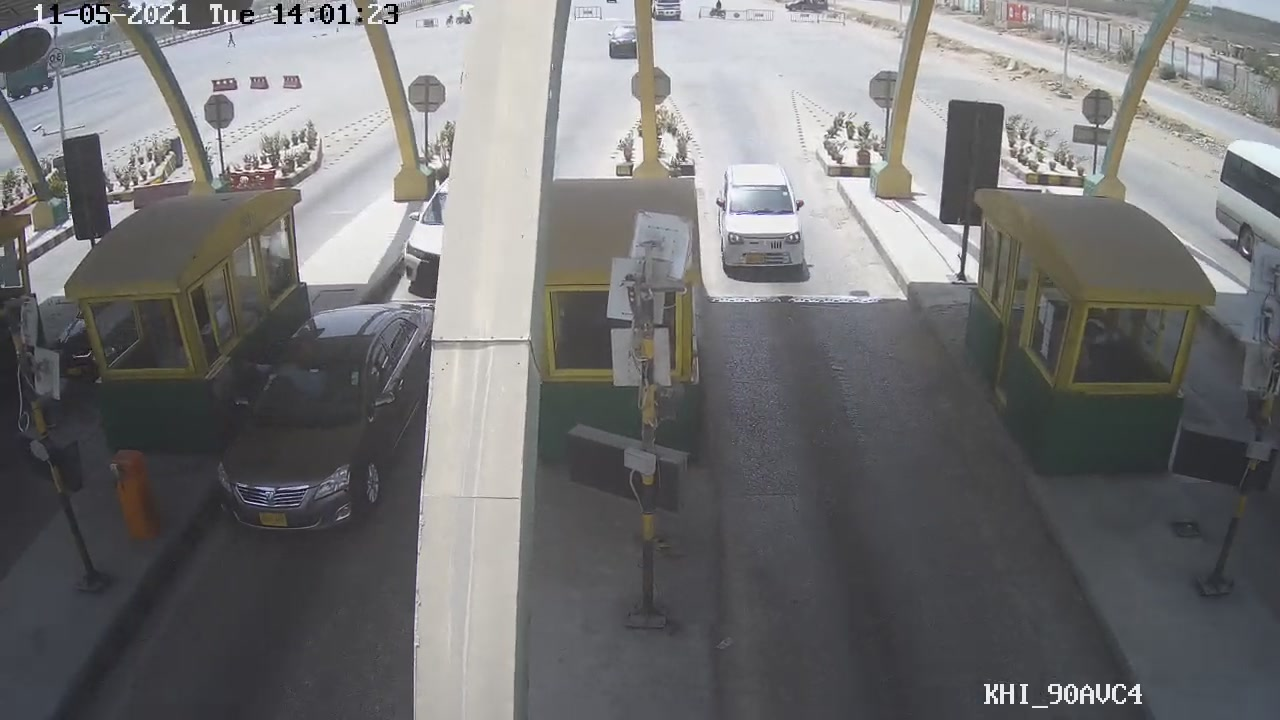F1: (713, 160, 820, 285)
